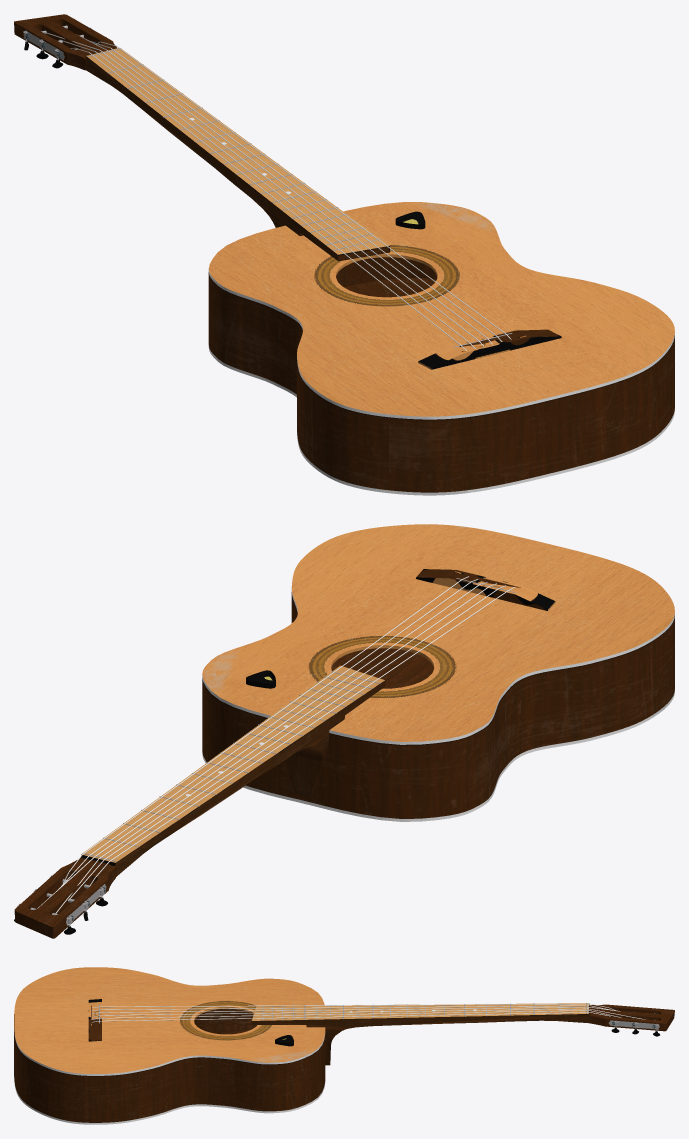
File: classic_guitar.glb
3 views of the same model, one above another, from view 1: azimuth 30°, elevation 25°; view 2: azimuth 150°, elevation 25°; view 3: azimuth 270°, elevation 25° (orthographic). The views are drawn at different scales.
Parts seen in each view (by area): view 1: Object_14, Object_9, Object_3, Object_17, Object_4, Object_10; view 2: Object_14, Object_9, Object_3, Object_17, Object_4, Object_10; view 3: Object_14, Object_9, Object_3, Object_17, Object_4, Object_10, Object_12.
Boxes of the visible parts, left/top/right/bottom form: Object_14: left=208, top=202, right=674, bottom=495; Object_9: left=208, top=257, right=674, bottom=492; Object_3: left=85, top=48, right=389, bottom=261; Object_17: left=41, top=31, right=511, bottom=350; Object_4: left=14, top=14, right=116, bottom=70; Object_10: left=58, top=27, right=512, bottom=347; Object_14: left=202, top=524, right=674, bottom=821; Object_9: left=202, top=592, right=674, bottom=818; Object_3: left=80, top=665, right=385, bottom=876; Object_17: left=37, top=576, right=515, bottom=913; Object_4: left=14, top=858, right=116, bottom=938; Object_10: left=35, top=578, right=515, bottom=889; Object_14: left=14, top=967, right=325, bottom=1124; Object_9: left=14, top=1009, right=325, bottom=1122; Object_3: left=251, top=1003, right=589, bottom=1065; Object_17: left=91, top=1004, right=645, bottom=1022; Object_4: left=588, top=1004, right=674, bottom=1031; Object_10: left=99, top=1003, right=636, bottom=1023; Object_12: left=608, top=1013, right=659, bottom=1031.
Bounding box in the file's own units: 45.04 × 12.4 × 118.
11 materials, 4 textured.
